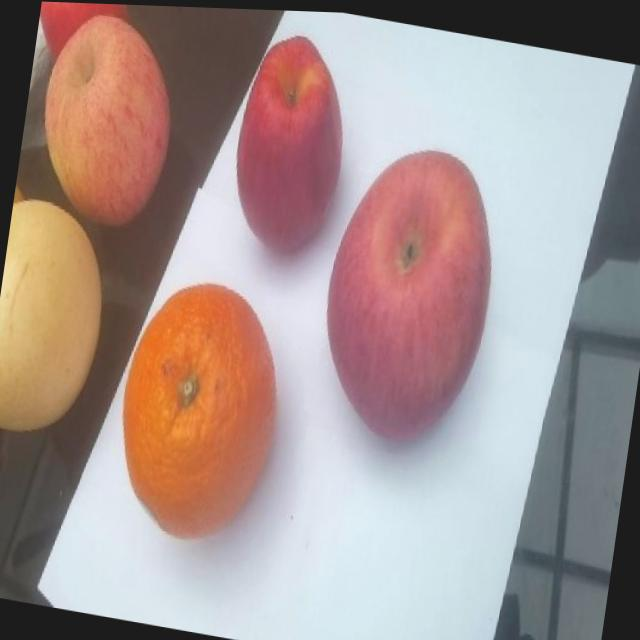Apple: (309, 130, 508, 450), (28, 4, 185, 235), (222, 23, 358, 259), (34, 1, 135, 72)
Orange: (104, 268, 294, 551)
